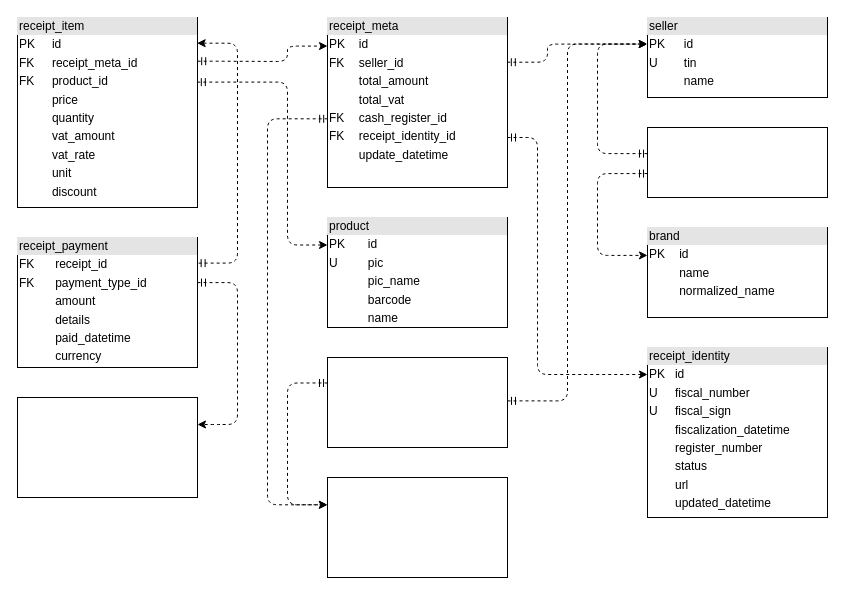
This 845x595 diagram has some shape labels left out. Here are the shapes that lost their labels. From the top down, the centre of each, then its label:
(x=737, y=162): seller_brand FK seller_id FK brand_id
(x=417, y=402): store PK id FK seller_id address
(x=107, y=447): payment_type PK id U code name
(x=417, y=527): cash_register PK id U serial_number name FK store_id
